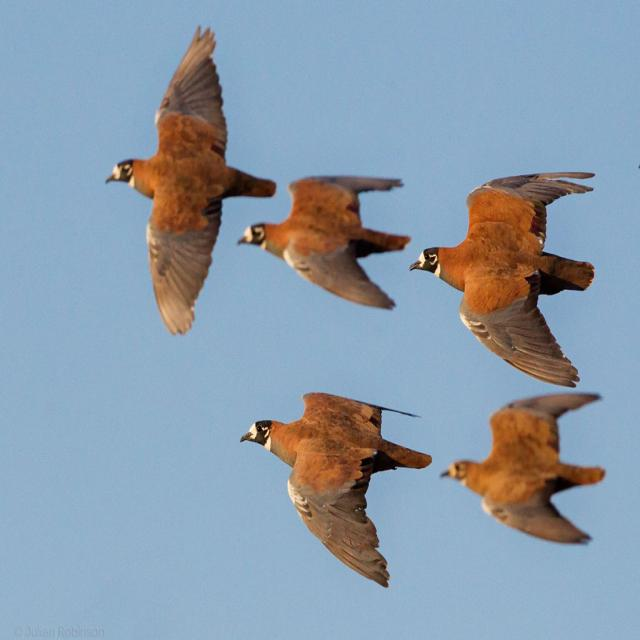bird: (97, 9, 295, 332), (413, 177, 608, 418), (264, 398, 419, 595), (231, 177, 412, 312), (442, 404, 604, 539)
